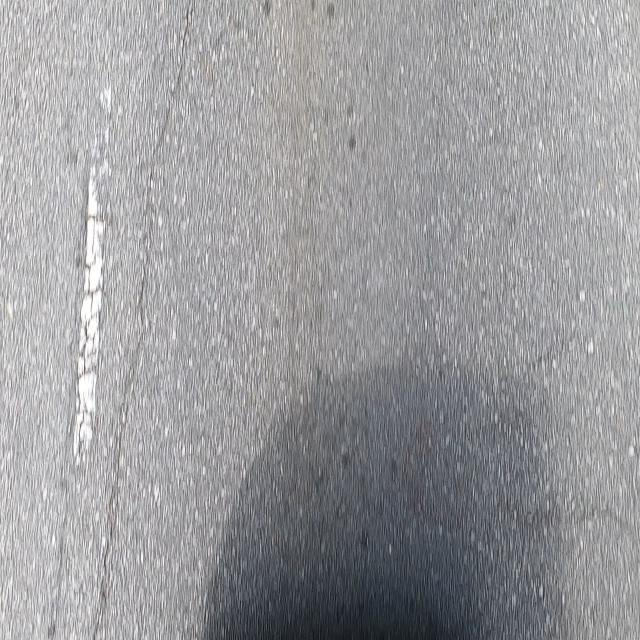Retak-Memanjang: (88, 1, 196, 640)
